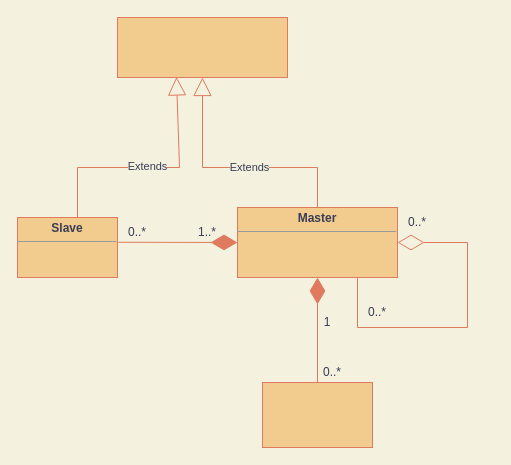
The diagram is 511 pixels wide and 465 high, and some of its shapes have lost their labels. Here are the shapes that lost their labels. From the top down, the centre of each, then its label:
At point (202, 47): "Trader".
At point (317, 415): "Trade Signal".
